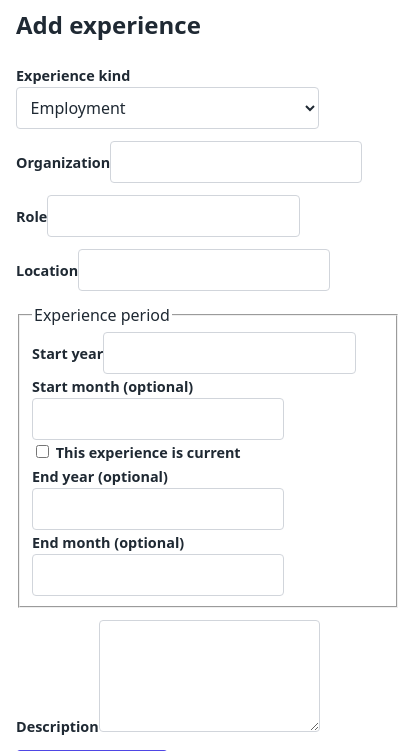
Scenario: ExperienceEditorPage › clears and disables end fields when current is selected
The width and height of the screenshot is (415, 751).
In the number field labelled "End year (optional)": (158, 509) [32,488,284,530], type "2026"
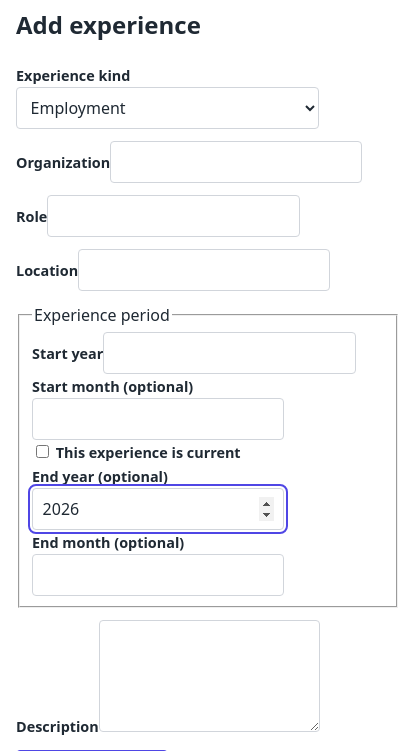
In the number field labelled "End month (optional)": (158, 575) [32,554,284,596], type "2"
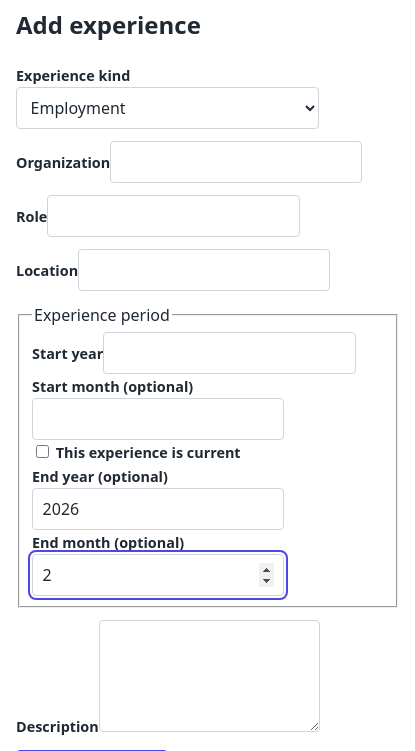
Click the checkbox labelled "This experience is current": (42, 452) [36,445,49,458]
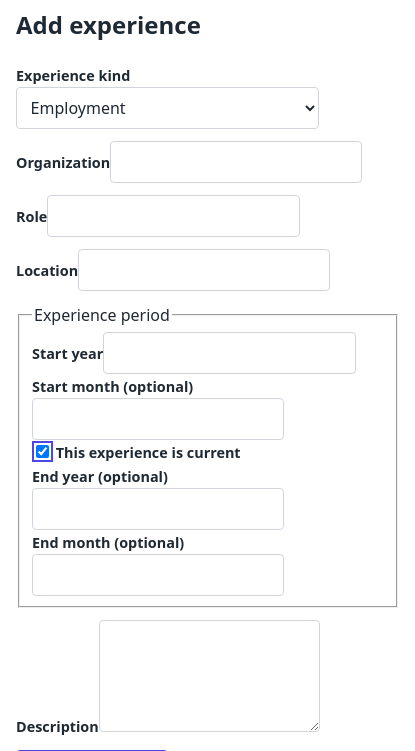
Now the number field labelled "End year (optional)" is not empty, box [32,488,284,530]
Now the number field labelled "End year (optional)" is disabled, box [32,488,284,530]
Now the number field labelled "End month (optional)" is disabled, box [32,554,284,596]
